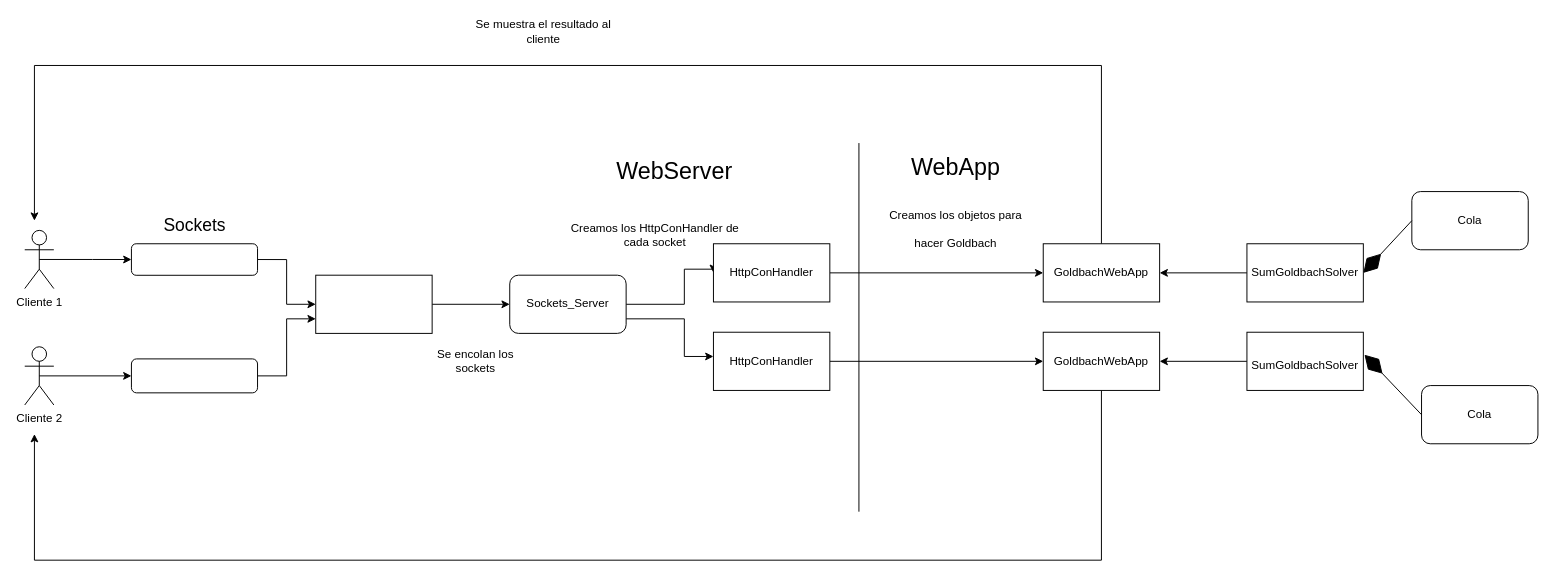
This 1555x585 diagram has some shape labels left out. Here are the shapes that lost their labels. From the top down, the centre of each, then its label:
the point at 194,259: Solicitudes 1
the point at 373,303: HttpServer
the point at 194,375: Solicitudes 2
